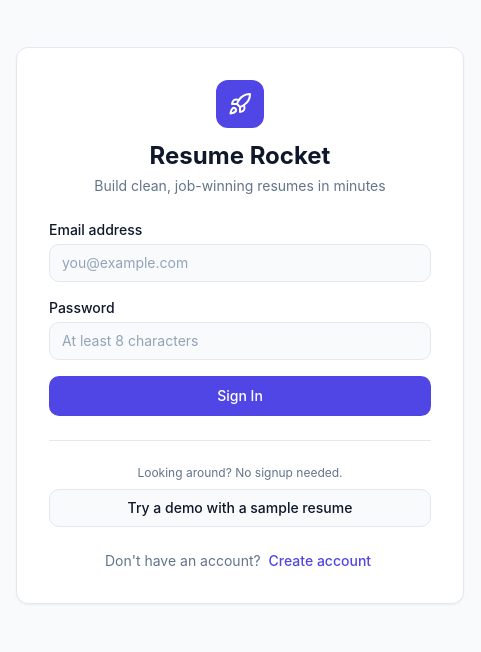
Phase 7b: Try demo button › 2. 429 and 503 responses show the server's message under button and re-enable it
Later steps or results of the test are not shown.
What coordinates should you click on to do the following:
click the button "Try a demo with a sample resume"
I would click on:
 (240, 508)
Its box is [49,488,431,526].
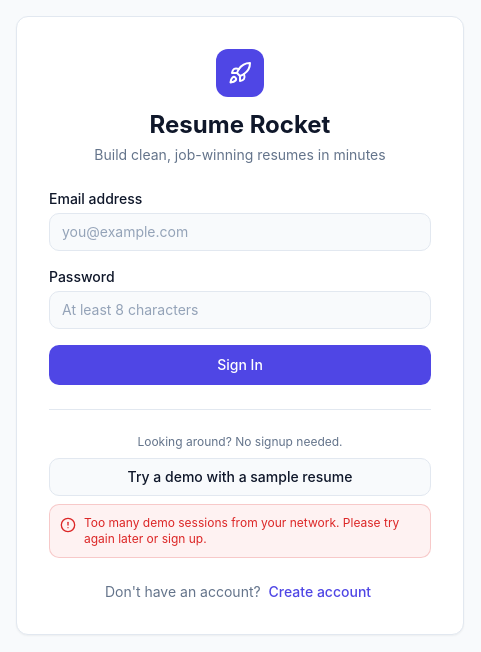
Check: the button "Try a demo with a sample resume" is enabled, box [49,458,431,496]
Check: the message reads "Too many demo sessions from your network. Please try again later or sign up.", box [84,514,399,546]
